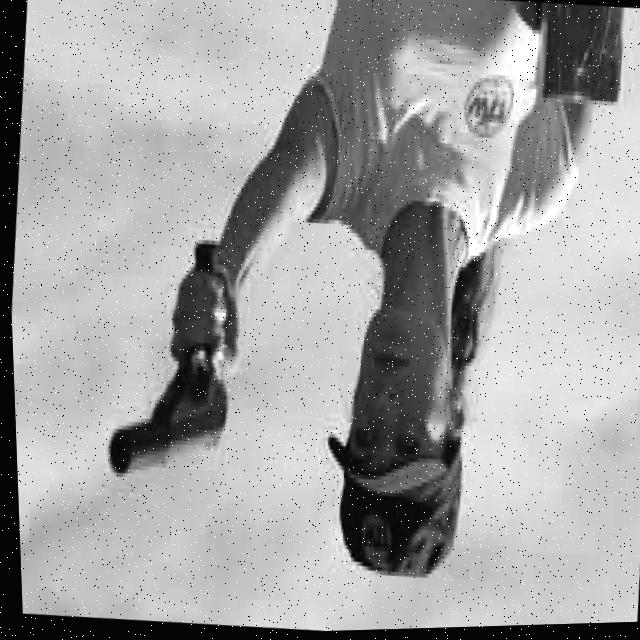pistol: (101, 344, 231, 484)
